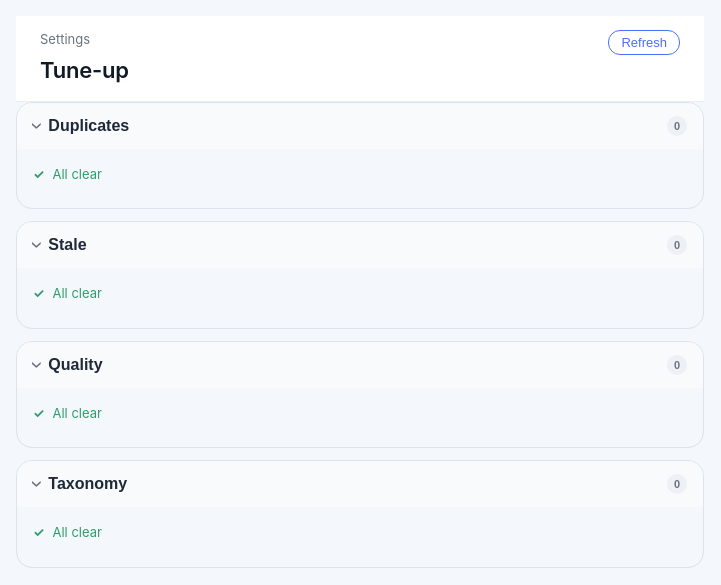
Test: TuneUpView › section collapse/expand › expands a collapsed section when header is clicked again
Check: the text "Duplicates" is shown, box [48,116,129,134]
Click the button "› Duplicates 0" at (89, 125), box [17,102,703,148]
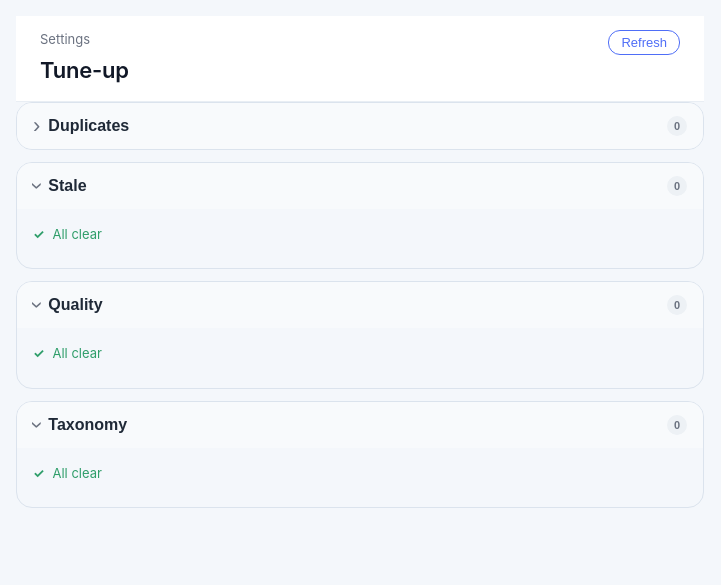
Click the button "› Duplicates 0" at (89, 125), box [17,102,703,148]
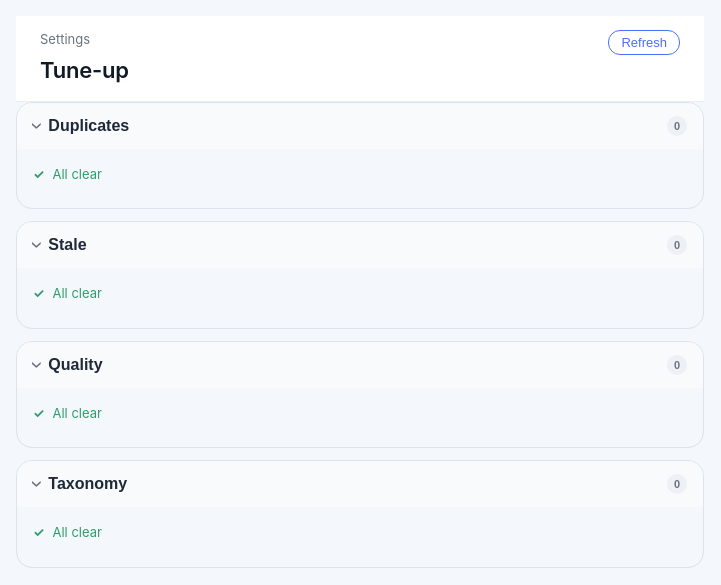
Check: the 1st element with class "tuneup-section__body" is shown, box [33,166,102,182]
